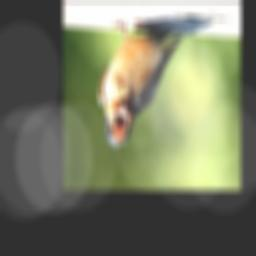Swallow: (97, 19, 185, 147)
